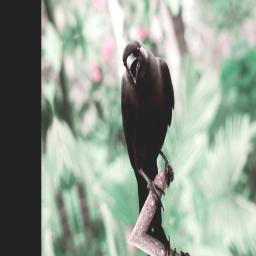Crow: (106, 25, 198, 234)
